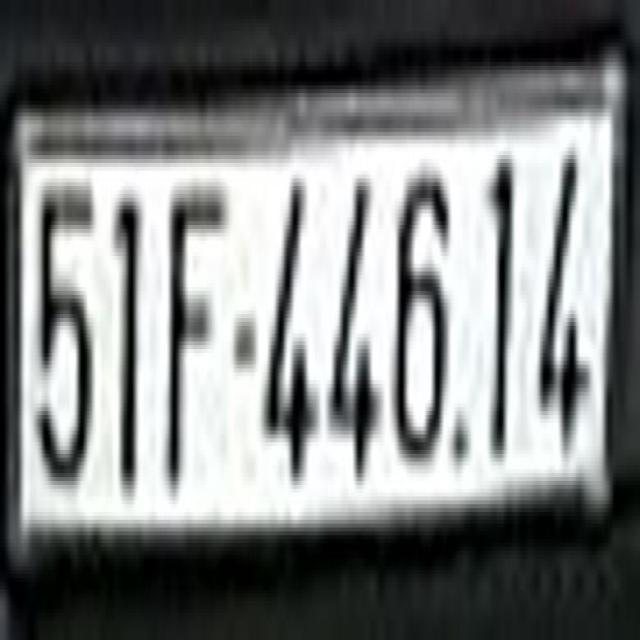1: (480, 155, 523, 481), (112, 162, 140, 500)
4: (534, 144, 598, 478), (258, 159, 320, 493), (325, 155, 383, 469)
5: (38, 178, 96, 484)
6: (394, 143, 452, 470)
F: (160, 178, 228, 496)
